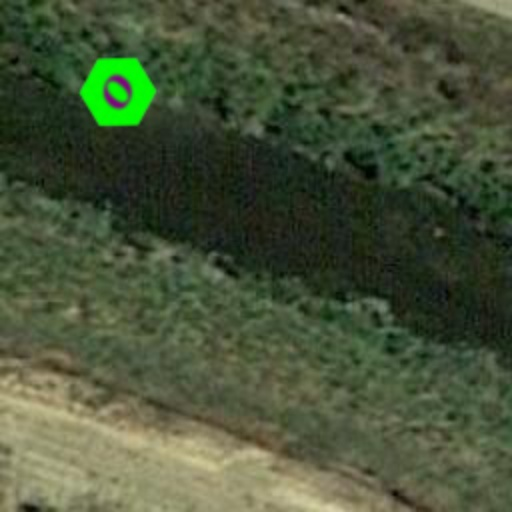hexagon: (64, 38, 172, 146)
